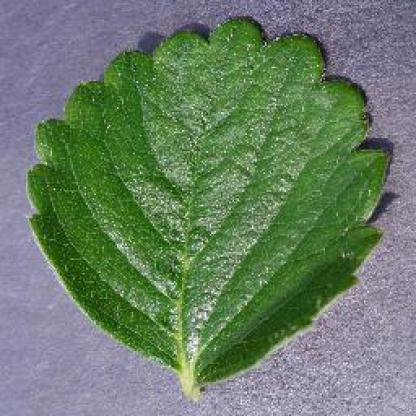healthy: (18, 12, 401, 404)
